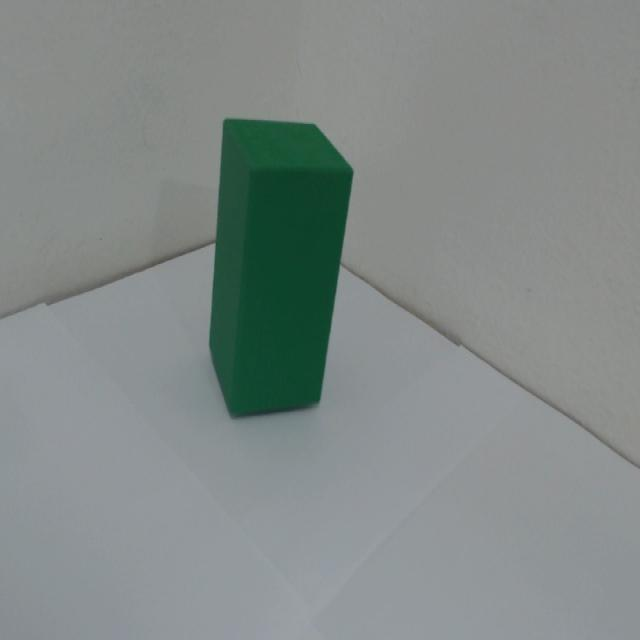cube: (195, 47, 342, 433)
